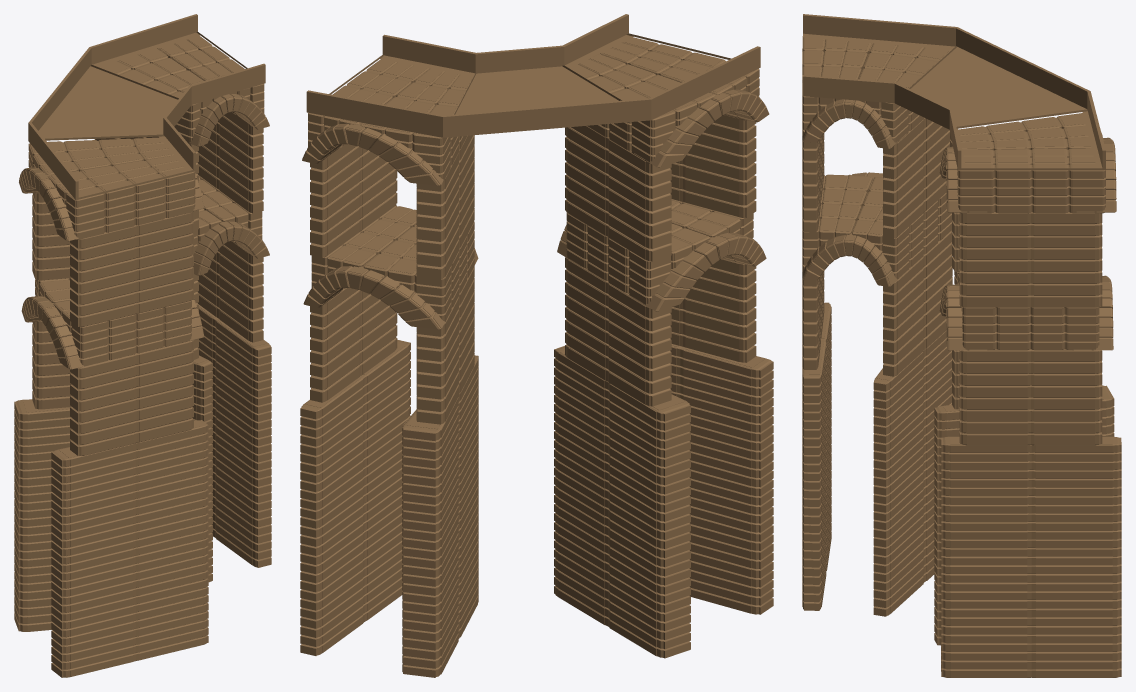
Rendered from Curva.fbx.
3 renders of one model, left to right at view 1: azimuth 30°, elevation 25°; view 2: azimuth 150°, elevation 25°; view 3: azimuth 270°, elevation 25°, orthographic. The views are drawn at different scales.
Parts seen in each view (by area): view 1: Ladrillo.Ancho.002; view 2: Ladrillo.Ancho.002; view 3: Ladrillo.Ancho.002.
Part boxes in pixels (x1=…): Ladrillo.Ancho.002: x1=14, y1=14, x2=271, y2=677; Ladrillo.Ancho.002: x1=300, y1=14, x2=773, y2=677; Ladrillo.Ancho.002: x1=802, y1=14, x2=1121, y2=677.
Bounding box in the file's own units: 7.8 × 13.39 × 7.34.
